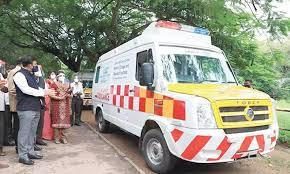ER: (92, 21, 279, 174)
